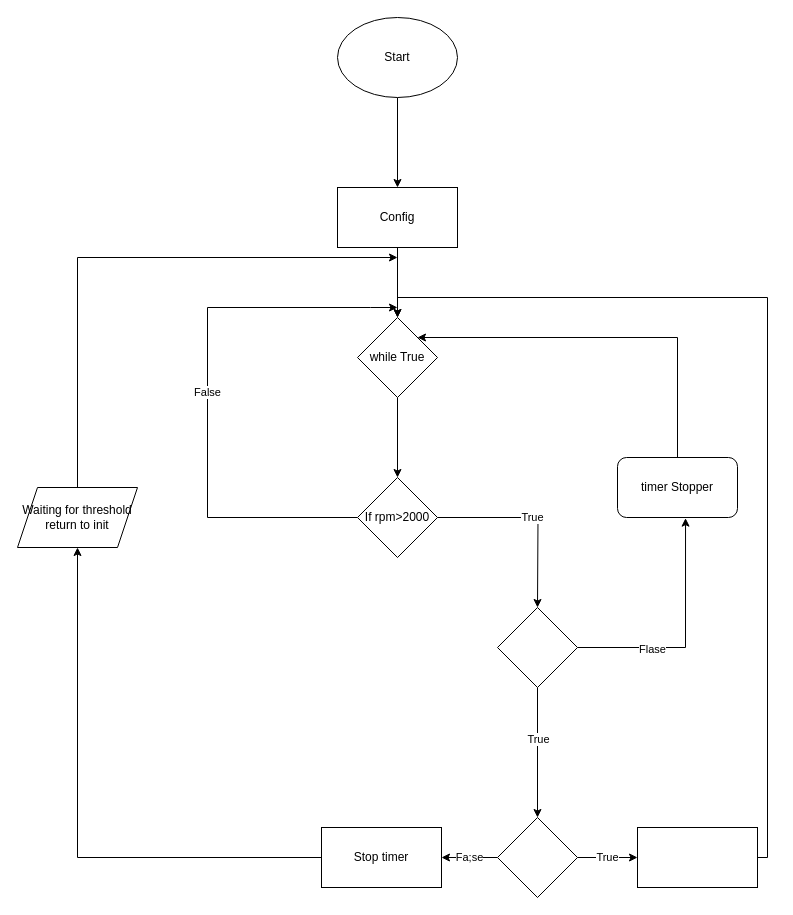
This 793x915 diagram has some shape labels left out. The shapes that lost their labels are listed below. From the top down, each one's centre as x and y in pixels, then its label:
At [537,647]: "for timer in 30".
At [537,857]: "if rpm >2000".
At [697,857]: "Max Thresh reached restart dev".
